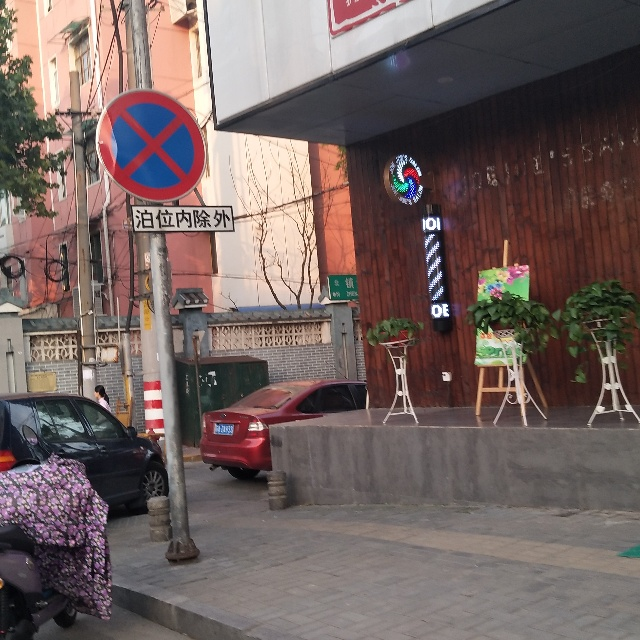stop: (94, 89, 207, 203)
